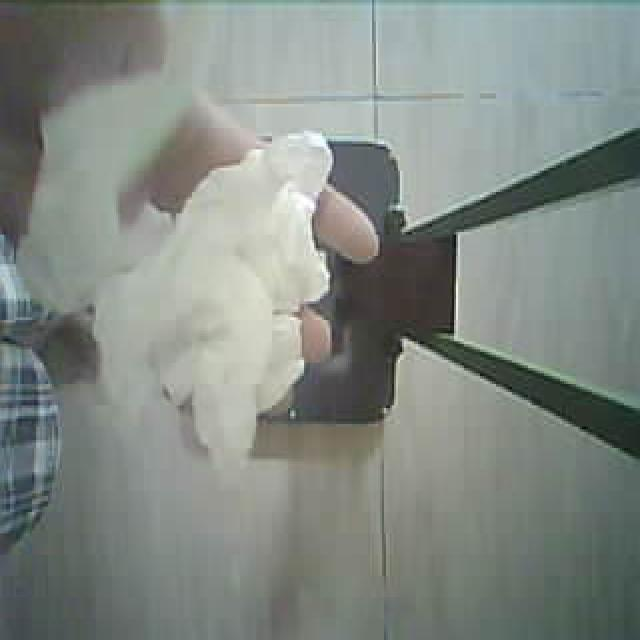Paper: (44, 58, 358, 470)
